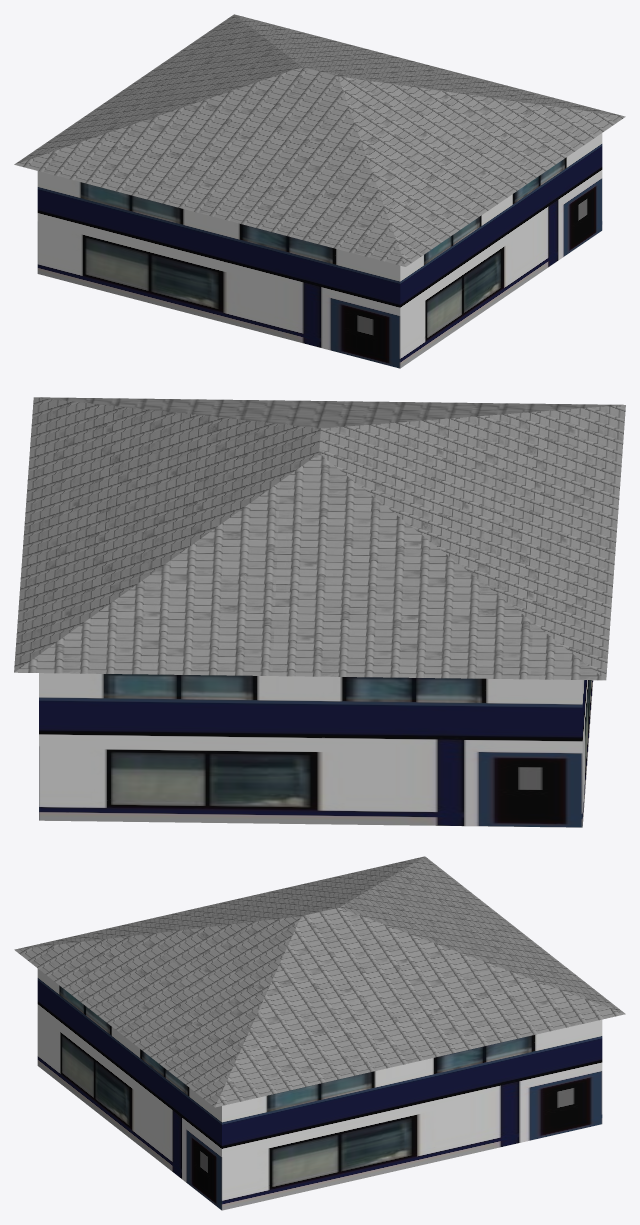
3 renders of one model, top to bottom at view 1: azimuth 30°, elevation 25°; view 2: azimuth 150°, elevation 25°; view 3: azimuth 270°, elevation 25°, orthographic. The views are drawn at different scales.
Visible parts, largest first — view 1: CityEngineMaterial_4_m, CityEngineMaterial_2_m; view 2: CityEngineMaterial_4_m, CityEngineMaterial_2_m; view 3: CityEngineMaterial_4_m, CityEngineMaterial_2_m.
Part boxes in pixels (<box>): CityEngineMaterial_4_m: <box>14,14,625,266</box>; CityEngineMaterial_2_m: <box>37,133,602,368</box>; CityEngineMaterial_4_m: <box>14,397,625,680</box>; CityEngineMaterial_2_m: <box>39,673,593,827</box>; CityEngineMaterial_4_m: <box>14,856,625,1107</box>; CityEngineMaterial_2_m: <box>37,968,602,1210</box>.
Size of the model in its own units: 32.13 by 10.91 by 33.07.
